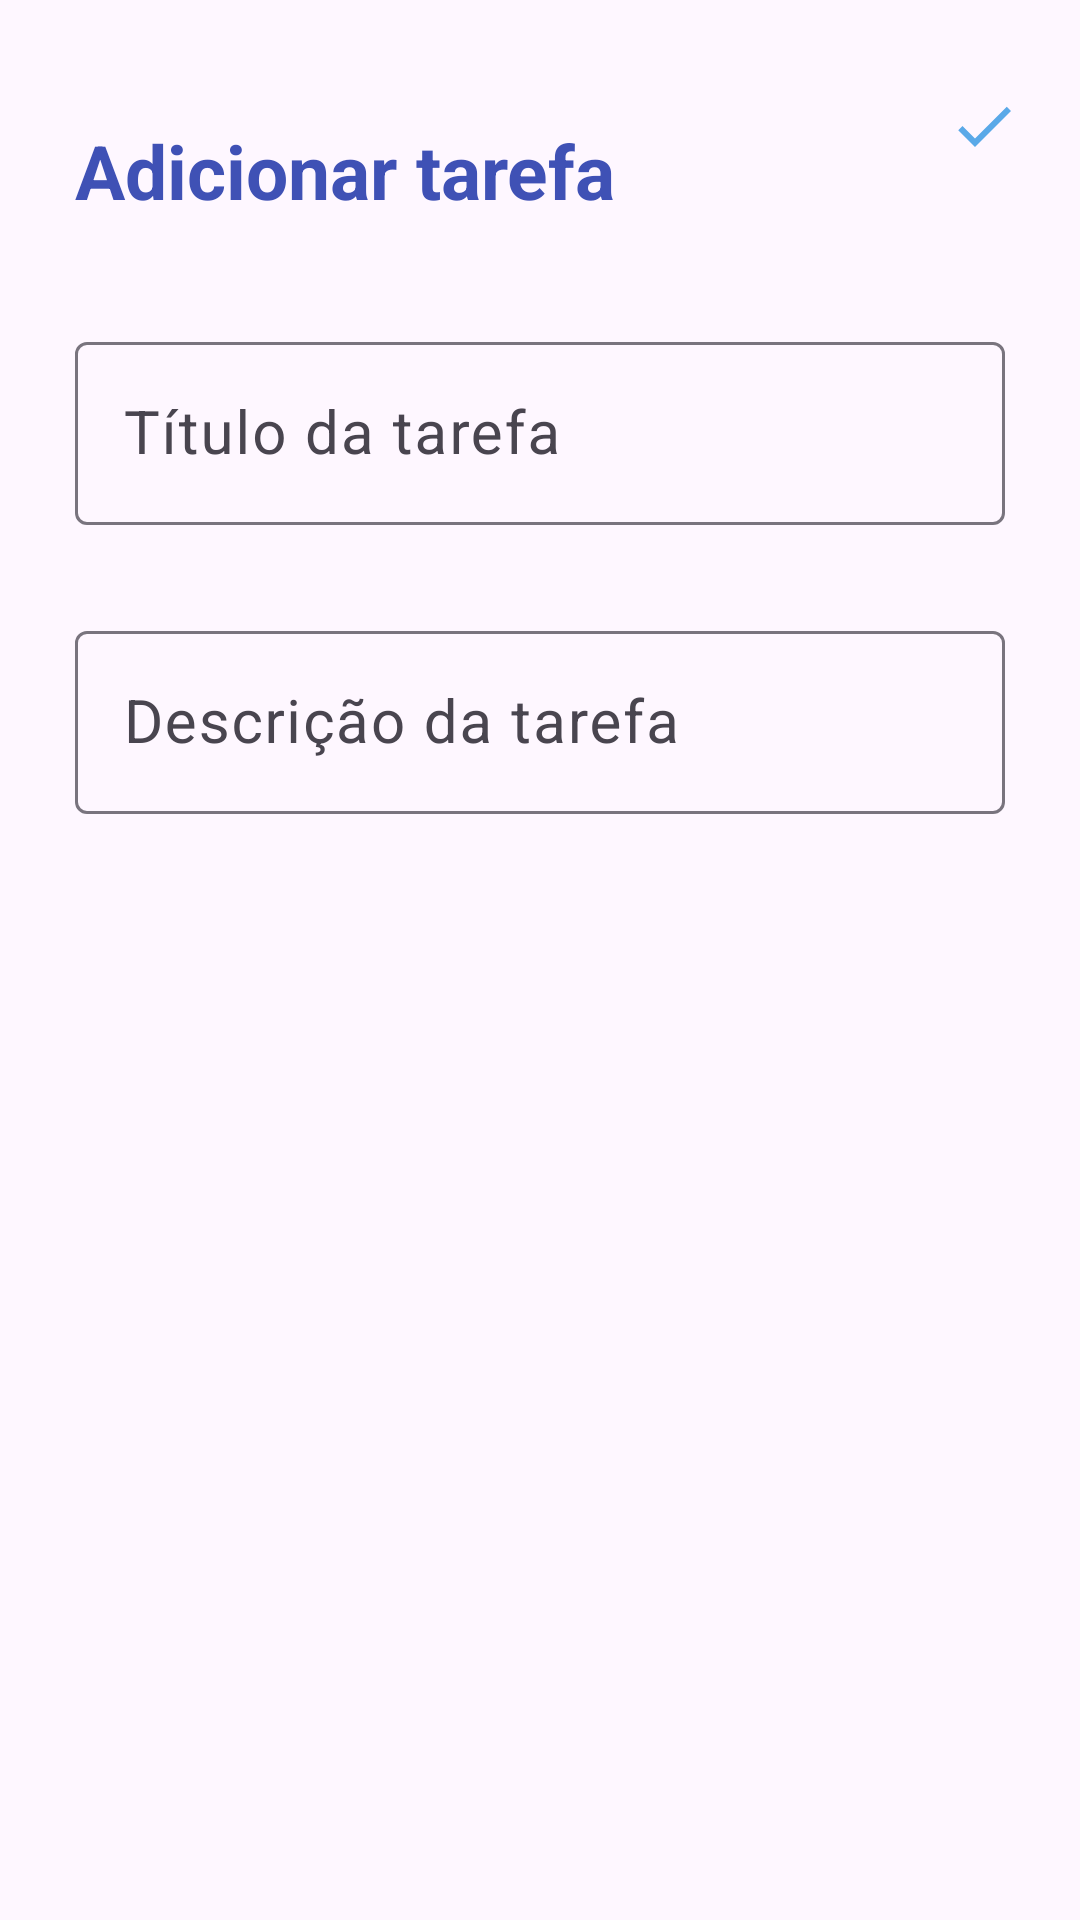

Named icons in this screenshot (1080 x 1920) and their bounding boxes, (x1,y1,x2,y2):
check: (958,107,1011,147)
